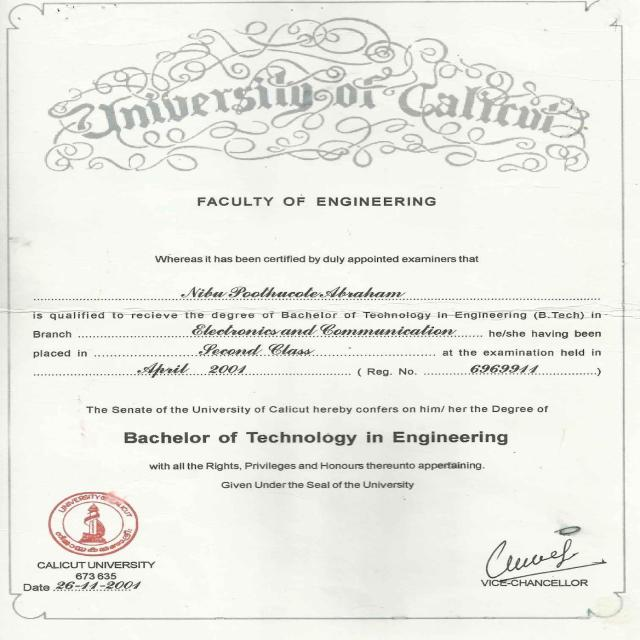signature: (471, 521, 607, 579)
